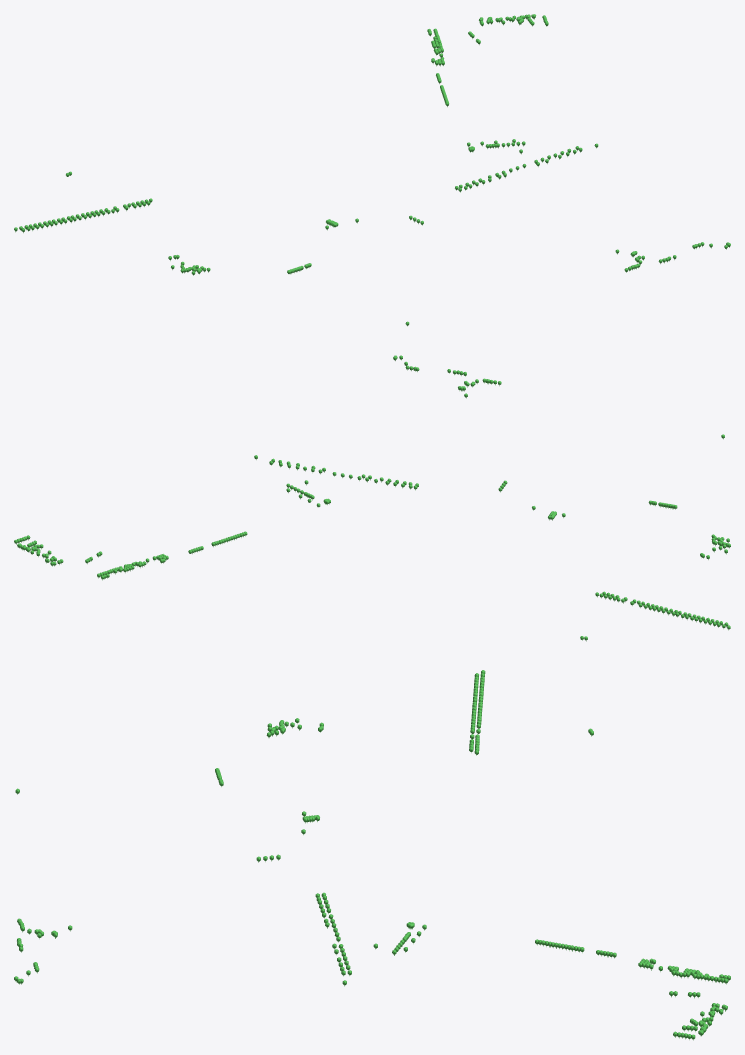
The model's file is vegetation.glb.
The picture shows the model from 3 angles, top to bottom: view 1: azimuth 30°, elevation 25°; view 2: azimuth 150°, elevation 25°; view 3: azimuth 270°, elevation 25°; orthographic projection. The views are drawn at different scales.
Visible parts, largest first — view 1: Vegetation; view 2: Vegetation; view 3: Vegetation.
Boxes of the visible parts, x1,y1,x2,y2 form: Vegetation: (14,14,730,326); Vegetation: (14,355,730,641); Vegetation: (14,670,730,1040).
Bounding box in the file's own units: 1241558 × 15518 × 1033439.
